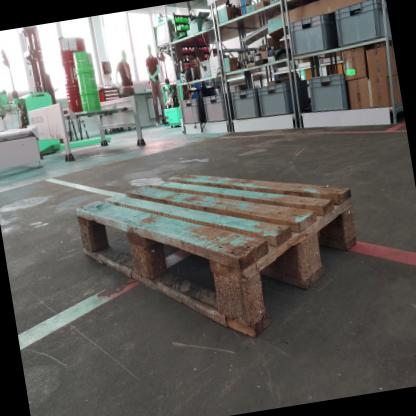BoxFace: (73, 168, 361, 342)
